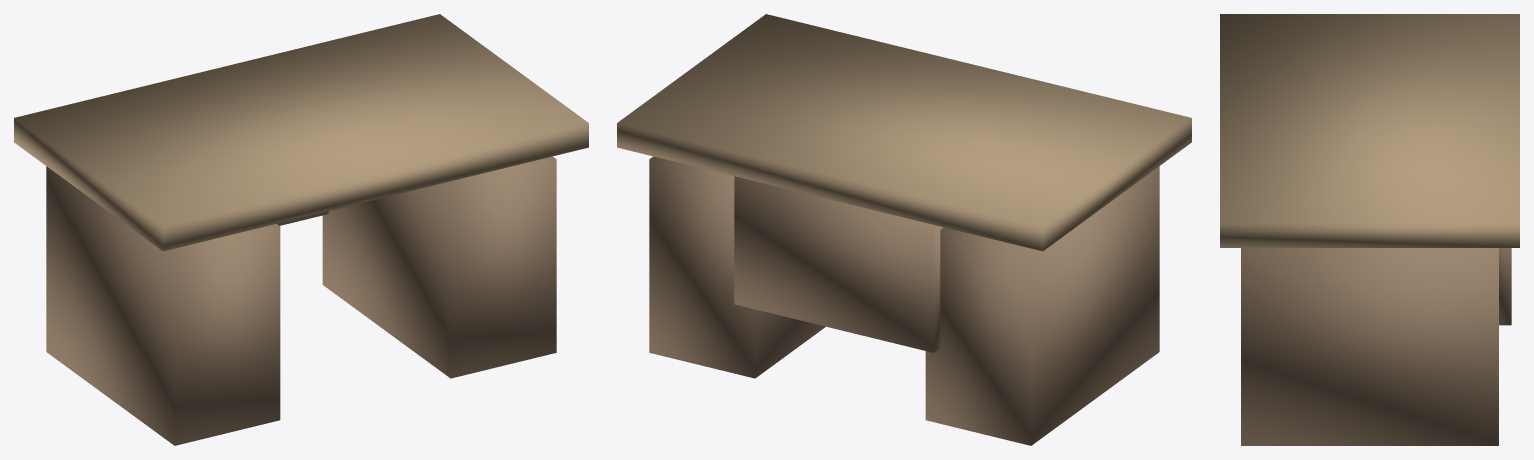
Rendered from office_desk__deep.glb.
The picture shows the model from 3 angles, left to right: view 1: azimuth 30°, elevation 25°; view 2: azimuth 150°, elevation 25°; view 3: azimuth 270°, elevation 25°; orthographic projection.
Parts seen in each view (by area): view 1: world; view 2: world; view 3: world.
Boxes of the visible parts, x1,y1,x2,y2 form: world: (14, 14, 588, 445); world: (617, 14, 1191, 445); world: (1220, 14, 1519, 445).
Size of the model in its own units: 1.45 by 0.755 by 0.8784.
